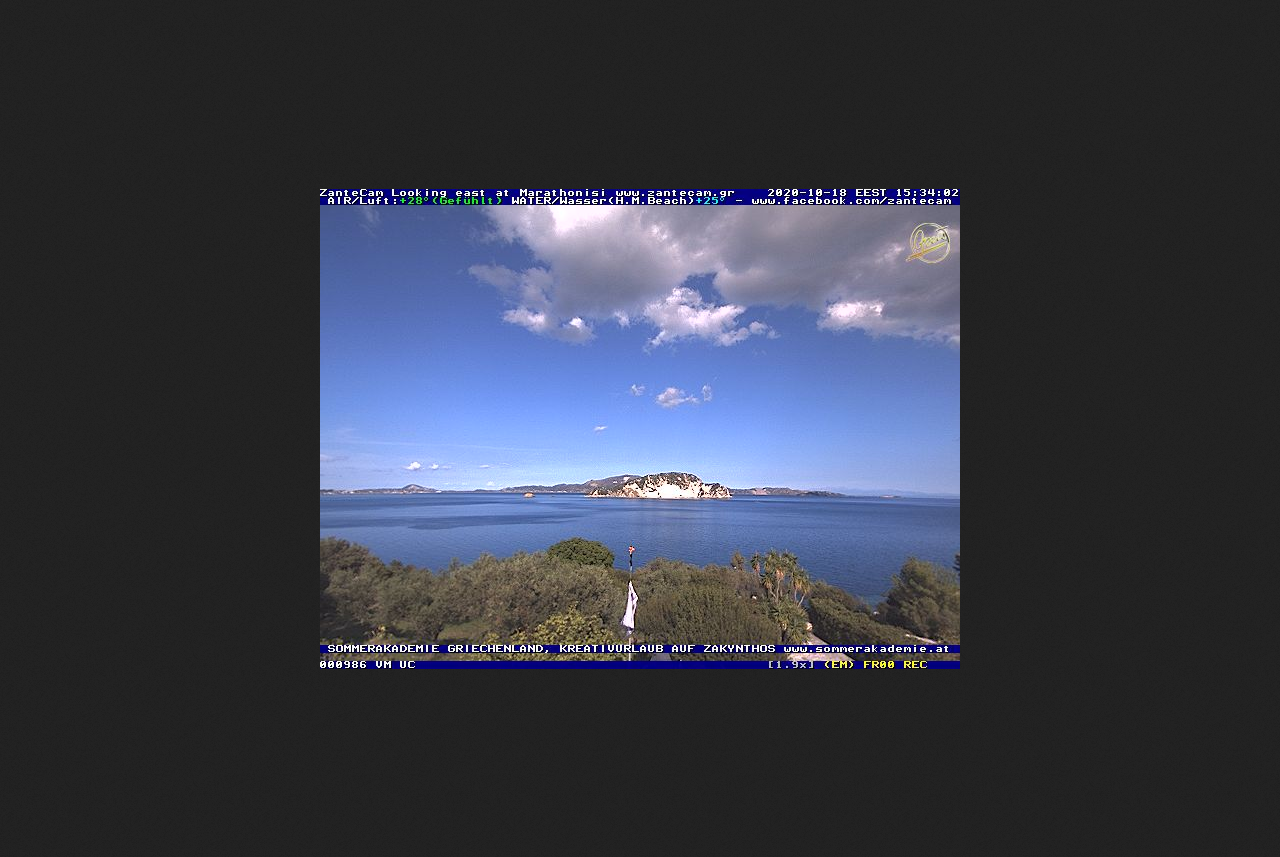no: (622, 585, 640, 633)
